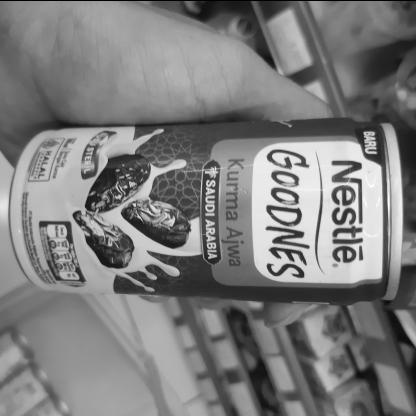alumunium_can: (0, 104, 403, 314)
